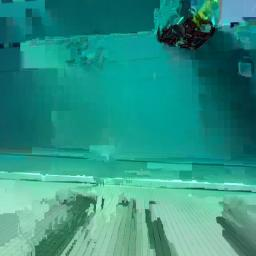back: (155, 1, 221, 52)
